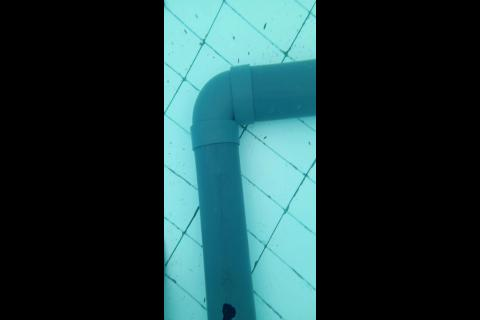kebocoran: (220, 301, 237, 319)
